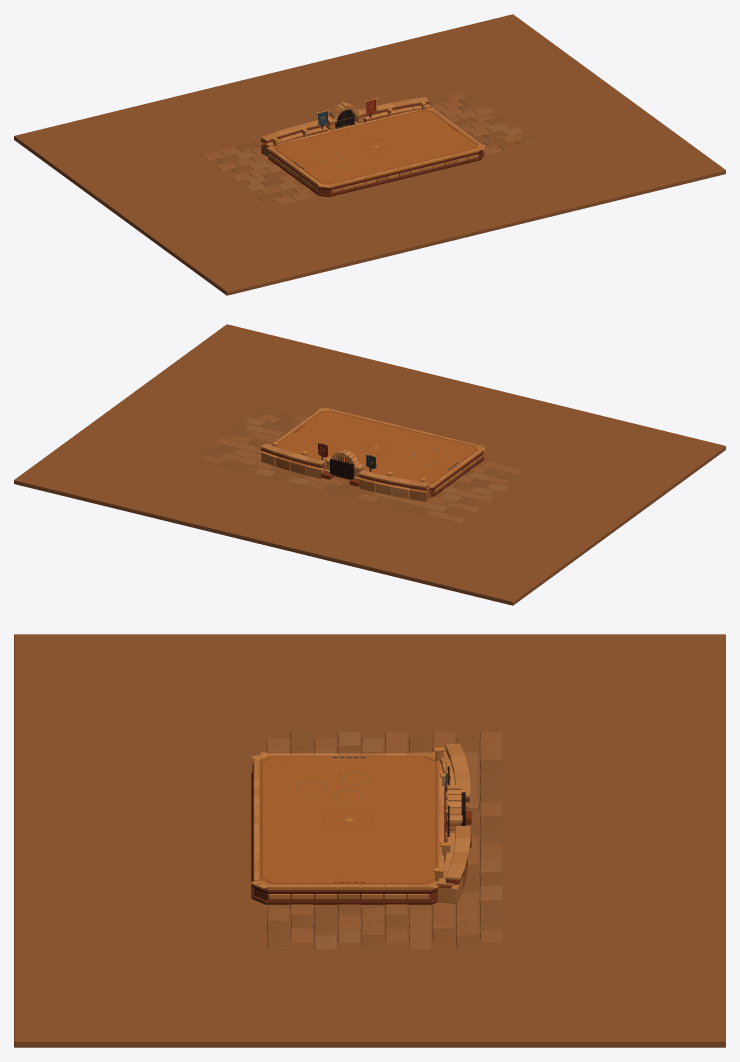
Rendered from SlingArenaBlenderArena.fbx.
3 views of the same model, one above another, from view 1: azimuth 30°, elevation 25°; view 2: azimuth 150°, elevation 25°; view 3: azimuth 270°, elevation 25° (orthographic). The views are drawn at different scales.
Visible parts, largest first — view 1: 04 Tournament grounds, 01 Arena plinth, 05 Gate and bleachers, 02 Pavilion rim, 03 Painted inlays; view 2: 04 Tournament grounds, 01 Arena plinth, 05 Gate and bleachers, 03 Painted inlays, 02 Pavilion rim; view 3: 04 Tournament grounds, 01 Arena plinth, 05 Gate and bleachers, 02 Pavilion rim, 03 Painted inlays.
Boxes of the visible parts, x1,y1,x2,y2 form: 04 Tournament grounds: (14,14,725,295); 01 Arena plinth: (268,109,484,196); 05 Gate and bleachers: (260,97,430,156); 02 Pavilion rim: (267,107,485,187); 03 Painted inlays: (276,110,476,183); 04 Tournament grounds: (14,324,725,605); 01 Arena plinth: (277,409,484,496); 05 Gate and bleachers: (260,441,430,501); 03 Painted inlays: (277,411,476,483); 02 Pavilion rim: (271,407,485,487); 04 Tournament grounds: (14,634,725,1047); 01 Arena plinth: (251,754,446,904); 05 Gate and bleachers: (433,743,471,903); 02 Pavilion rim: (250,751,443,888); 03 Painted inlays: (261,756,436,883).
Size of the model in its own units: 4600 by 309 by 3400.
